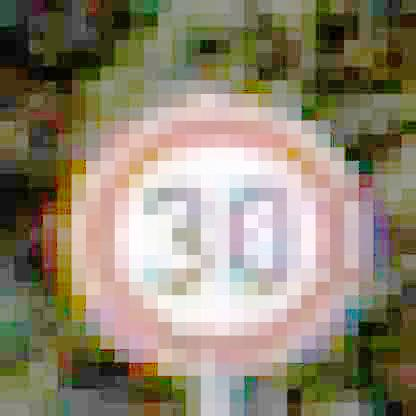Speed Limit -30-: (69, 98, 364, 377)
